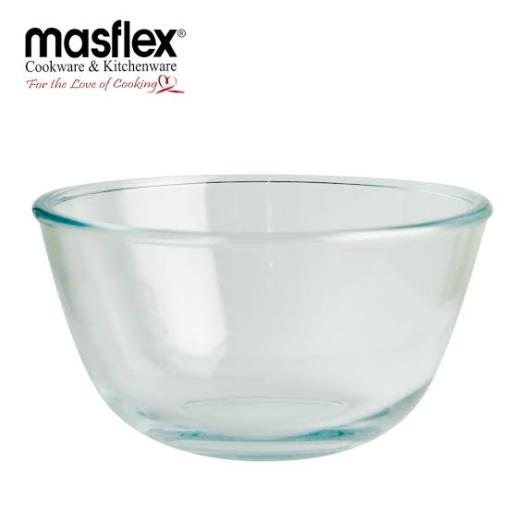Bowl: (33, 175, 491, 459)
